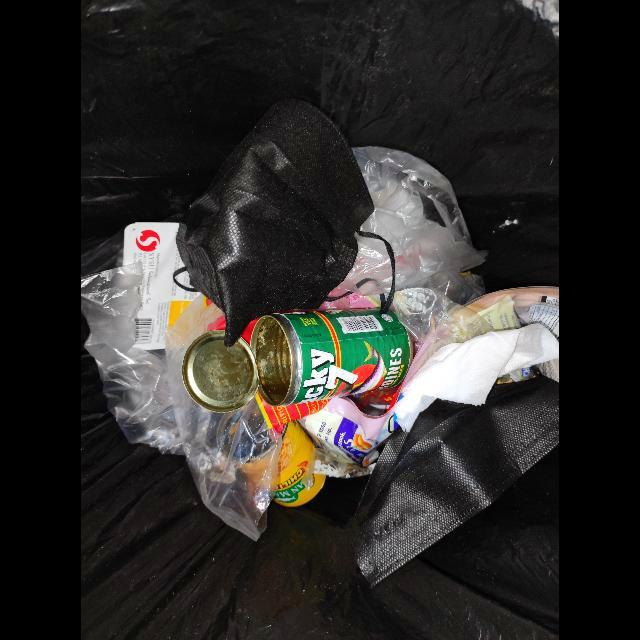aluminum: (182, 310, 412, 413)
food_wrapper: (302, 285, 560, 466), (122, 222, 199, 355)
paper: (394, 323, 560, 434)
plastic_bag: (81, 266, 283, 543), (328, 146, 489, 339)
